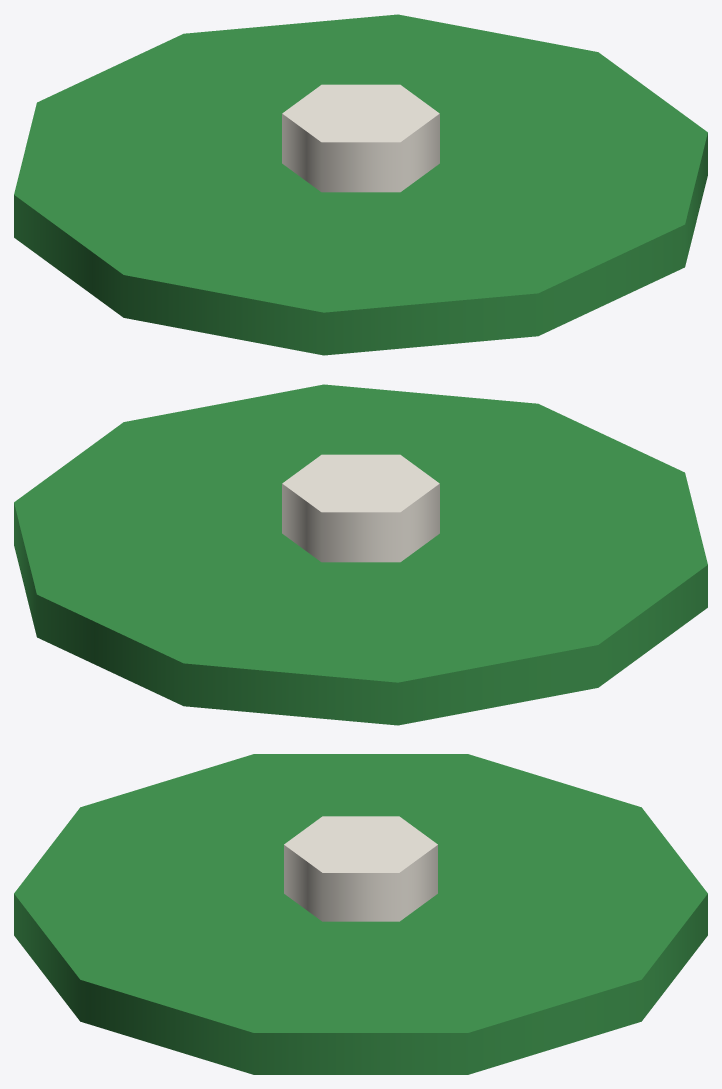
The model's file is lily.glb.
The picture shows the model from 3 angles, top to bottom: view 1: azimuth 30°, elevation 25°; view 2: azimuth 150°, elevation 25°; view 3: azimuth 270°, elevation 25°; orthographic projection. The views are drawn at different scales.
Visible parts, largest first — view 1: lily; view 2: lily; view 3: lily.
Part boxes in pixels (box(x1,y1,x2,y2)): lily: box(14, 14, 707, 355); lily: box(14, 384, 707, 725); lily: box(14, 754, 707, 1074).
Size of the model in its own units: 0.856 by 0.13 by 0.9.
